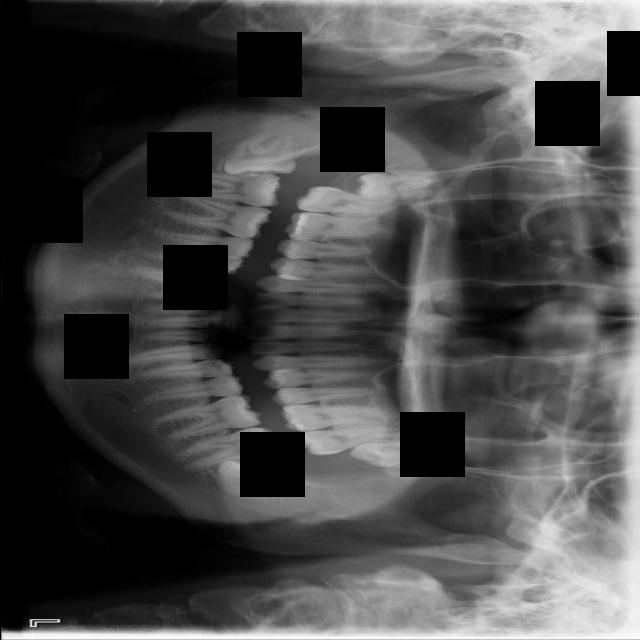3M ESPE Implant: (353, 173, 434, 197)
73: (36, 598, 42, 601)
BioHorizons Implant: (294, 419, 389, 461)
BioLife Implant: (348, 435, 435, 472)
Biomet 3i Implant: (212, 455, 289, 508)
Blue Sky Bio Implant: (171, 424, 282, 471)
Caries: (294, 184, 400, 218)
Implant: (175, 168, 283, 208)
Keystone Dental Implant: (217, 128, 300, 185)
